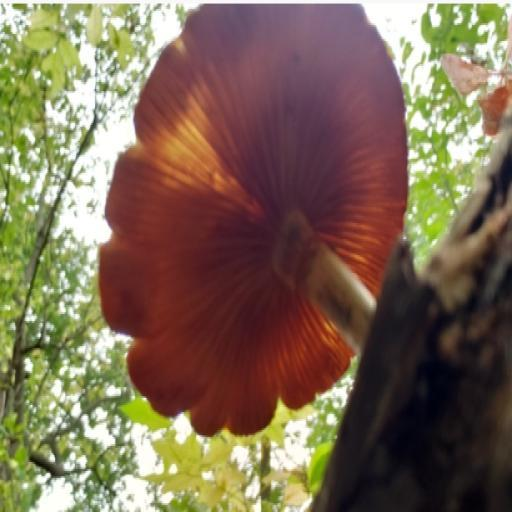mushroom: (96, 3, 423, 438)
